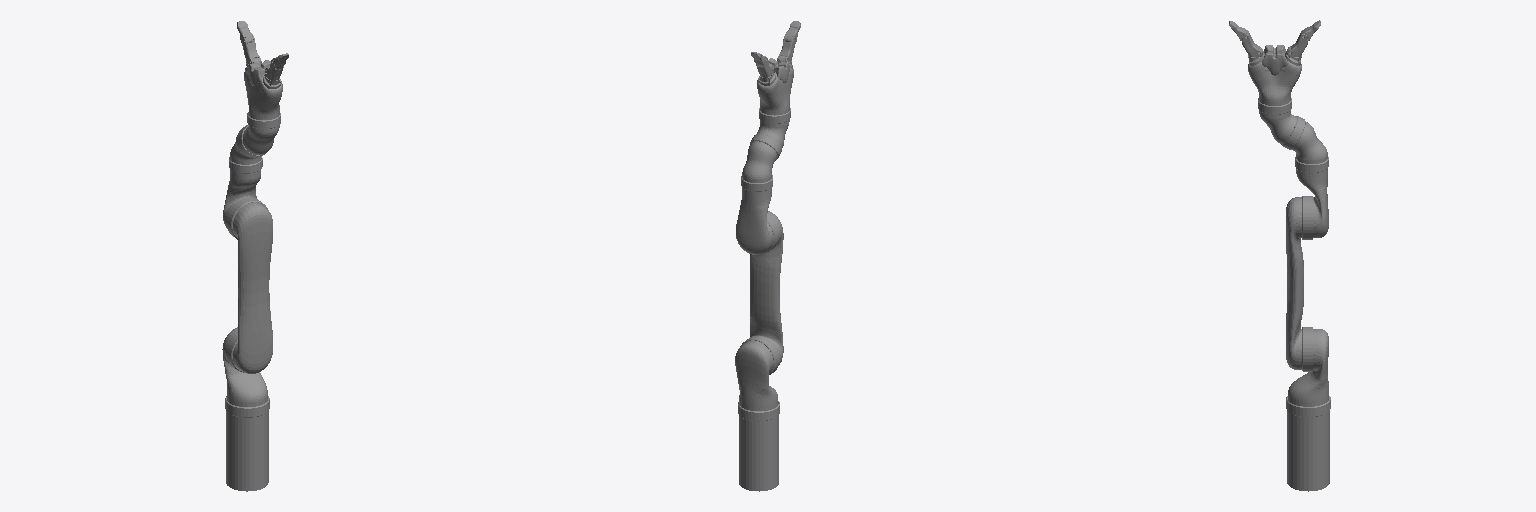
URDF robot description (segbot):
<?xml version="1.0" ?>
<!-- =================================================================================== -->
<!-- |    This document was autogenerated by xacro from segbot_armversion.urdf.xacro   | -->
<!-- |    EDITING THIS FILE BY HAND IS NOT RECOMMENDED                                 | -->
<!-- =================================================================================== -->
<robot name="segbot" xmlns:controller="http://playerstage.sourceforge.net/gazebo/xmlschema/#controller" xmlns:interface="http://playerstage.sourceforge.net/gazebo/xmlschema/#interface" xmlns:sensor="http://playerstage.sourceforge.net/gazebo/xmlschema/#sensor" xmlns:xacro="http://ros.org/wiki/xacro">
  <!-- Included URDF Files -->
 
  
  <material name="light_grey">
    <color rgba="0.7 0.7 0.7 1"/>
  </material>
  <material name="dark_grey">
    <color rgba="0.5 0.5 0.5 1"/>
  </material>
  <material name="black">
    <color rgba="0 0 0 1"/>
  </material>
  <material name="almost_black">
    <color rgba="0.1 0.1 0.1 1"/>
  </material>
  <material name="arm_material">
    <color rgba="0.6 0.6 0.6 1"/>
  </material>
  <material name="original_arm_material">
    <color rgba="0.79216 0.81961 0.93333 1" />
  </material>
  
  
  <!-- Add the segbot base -->
  <link name="base_footprint">
    <visual>
      <origin rpy="0 0 0" xyz="0 0 0"/>
      <geometry>
        <box size="0.001 0.001 0.001"/>
      </geometry>
    </visual>
  </link>

   <!-- kinnect -->
  <joint name="nav_kinect_joint" type="fixed">
    <origin rpy="3.14 3 .75" xyz="0.7 0.7 0.7"/>
    <parent link="base_footprint"/>
    <child link="nav_kinect_link"/>
  </joint>
  <link name="nav_kinect_link">
    <inertial>
      <mass value="0.1"/>
      <origin rpy="0 0 0" xyz="0 0 0"/>
      <inertia ixx="0.01" ixy="0.0" ixz="0.0" iyy="0.01" iyz="0.0" izz="0.01"/>
    </inertial>
    <visual>
      <origin rpy="0 0 0" xyz="0.0 0.012 0"/>
      <geometry>
        <mesh filename="package://segbot_description/meshes/kinect.dae" scale="1 1 1"/>
      </geometry>
    </visual>
    <!-- <collision> -->
    <!--   <origin xyz="0.0 0.012 0" rpy="0 0 0"/> -->
    <!--   <geometry> -->
    <!--     <mesh filename="package://pr2_description/meshes/sensors/kinect_v0/kinect.dae" scale="0.001 0.001 0.001" /> -->
    <!--   </geometry> -->
    <!-- </collision> -->
  </link>
  <gazebo reference="nav_kinect_link">
    <sensor name="nav_kinect_link_sensor" type="depth">
      <always_on>true</always_on>
      <update_rate>20.0</update_rate>
      <camera>
        <horizontal_fov>0.994837673637</horizontal_fov>
        <image>
          <format>R8G8B8</format>
          <width>640</width>
          <height>480</height>
        </image>
        <clip>
          <near>0.01</near>
          <far>5</far>
        </clip>
      </camera>
      <plugin filename="libgazebo_ros_openni_kinect.so" name="nav_kinect_frame_controller">
        <alwaysOn>true</alwaysOn>
        <updateRate>20.0</updateRate>
        <cameraName>nav_kinect</cameraName>
        <imageTopicName>rgb/image_raw</imageTopicName>
        <cameraInfoTopicName>rgb/camera_info</cameraInfoTopicName>
        <depthImageTopicName>depth/image_raw</depthImageTopicName>
        <depthImageCameraInfoTopicName>depth/camera_info</depthImageCameraInfoTopicName>
        <pointCloudTopicName>depth/points</pointCloudTopicName>
        <frameName>nav_kinect_depth_optical_frame</frameName>
        <pointCloudCutoff>0.5</pointCloudCutoff>
        <distortionK1>0.00000001</distortionK1>
        <distortionK2>0.00000001</distortionK2>
        <distortionK3>0.00000001</distortionK3>
        <distortionT1>0.00000001</distortionT1>
        <distortionT2>0.00000001</distortionT2>
      </plugin>
    </sensor>
  </gazebo>
  <joint name="nav_kinect_link_joint1" type="fixed">
    <origin rpy="-1.0 0.0 -1.567" xyz="0 0 0"/>
    <parent link="nav_kinect_link"/>
    <child link="camera_rgb_optical_frame"/>
  </joint>
  <link name="camera_rgb_optical_frame">
    <inertial>
      <mass value="0.001"/>
      <origin rpy="0 0 0" xyz="0 0 0"/>
      <inertia ixx="0.0001" ixy="0" ixz="0" iyy="0.000001" iyz="0" izz="0.0001"/>
    </inertial>
  </link>
  
  <link
    name="Shoulder_Link">
    <inertial>
      <origin
        xyz="9.8364E-07 0.014125 0.070452"
        rpy="0 0 0" />
      <mass
        value="0.76" />
      <inertia
        ixx="0.00044618"
        ixy="-2.0592E-08"
        ixz="-9.2286E-09"
        iyy="0.00047056"
        iyz="-7.4063E-05"
        izz="0.00019269" />
    </inertial>
    <visual>
      <origin
        xyz="0 0 0"
        rpy="0 0 0" />
      <geometry>
        <mesh
          filename="package://jaco_model/meshes/mico_alt/Shoulder_Link.STL" />
      </geometry>
      <material name="arm_material"/>
        
    </visual>
    <collision>
      <origin
        xyz="0 0 0"
        rpy="0 0 0" />
      <geometry>
        <mesh
          filename="package://jaco_model/meshes/mico_alt/Shoulder_Link.STL" />
      </geometry>
    </collision>
  </link>
  
  <joint
    name="Shoulder_Joint"
    type="revolute">
    <origin rpy="3.1416 0 3.1416" xyz="0.0 0 0.18"/>
    <parent
      link="base_footprint" />
    <child
      link="Shoulder_Link" />
    <axis
      xyz="0 0 1" />
    <limit
      lower="-3.14"
      upper="3.14"
      effort="0"
      velocity="0" />
  </joint>
 
  <link
    name="Arm_Link">
    <inertial>
      <origin
        xyz="-1.5264E-05 0.13777 -0.021034"
        rpy="0 0 0" />
      <mass
        value="0.76" />
      <inertia
        ixx="0.0036974"
        ixy="-7.8568E-08"
        ixz="4.7633E-08"
        iyy="0.00022818"
        iyz="-5.7314E-05"
        izz="0.0038268" />
    </inertial>
    <visual>
      <origin
        xyz="0 0 0"
        rpy="0 0 0" />
      <geometry>
        <mesh
          filename="package://jaco_model/meshes/mico_alt/Arm_Link.STL" />
      </geometry>
       <material name="arm_material"/>
    </visual>
    <collision>
      <origin
        xyz="0 0 0"
        rpy="0 0 0" />
      <geometry>
        <mesh
          filename="package://jaco_model/meshes/mico_alt/Arm_Link.STL" />
      </geometry>
    </collision>
  </link>
  <joint
    name="Arm_Joint"
    type="revolute">
    <origin
      xyz="0 -0.00625 -0.12325"
      rpy="-1.5708 4.3794E-14 0" />
    <parent
      link="Shoulder_Link" />
    <child
      link="Arm_Link" />
    <axis
      xyz="0 0 1" />
    <limit
      lower="-2.26"
      upper="2.26"
      effort="0"
      velocity="0" />
  </joint>
  
  <link
    name="Forearm_Link">
    <inertial>
      <origin
        xyz="3.3265E-06 0.035568 -0.023918"
        rpy="0 0 0" />
      <mass
        value="0.4" />
      <inertia
        ixx="0.00029276"
        ixy="2.9256E-08"
        ixz="4.5147E-08"
        iyy="0.00011211"
        iyz="1.2704E-05"
        izz="0.00033531" />
    </inertial>
    <visual>
      <origin
        xyz="0 0 0"
        rpy="0 0 0" />
      <geometry>
        <mesh
          filename="package://jaco_model/meshes/mico_alt/Forearm_Link.STL" />
      </geometry>
       <material name="arm_material"/>
    </visual>
    <collision>
      <origin
        xyz="0 0 0"
        rpy="0 0 0" />
      <geometry>
        <mesh
          filename="package://jaco_model/meshes/mico_alt/Forearm_Link.STL" />
      </geometry>
    </collision>
  </link>
  <joint
    name="Forearm_Joint"
    type="revolute">
    <origin
      xyz="0 0.29 0"
      rpy="3.1416 0 3.1416" />
    <parent
      link="Arm_Link" />
    <child
      link="Forearm_Link" />
    <axis
      xyz="0 0 -1" />
    <limit
      lower="-2.44"
      upper="2.44"
      effort="0"
      velocity="0" />
  </joint>
  <link
    name="Wrist_1_Link">
    <inertial>
      <origin
        xyz="-3.8615E-05 0.0067766 -0.027417"
        rpy="0 0 0" />
      <mass
        value="0.4" />
      <inertia
        ixx="4.9442E-05"
        ixy="-2.5359E-08"
        ixz="2.3947E-08"
        iyy="4.949E-05"
        iyz="-5.6364E-06"
        izz="4.0284E-05" />
    </inertial>
    <visual>
      <origin
        xyz="0 0 0"
        rpy="0 0 0" />
      <geometry>
        <mesh
          filename="package://jaco_model/meshes/mico_alt/Wrist_1_Link.STL" />
      </geometry>
       <material name="arm_material"/>
    </visual>
    <collision>
      <origin
        xyz="0 0 0"
        rpy="0 0 0" />
      <geometry>
        <mesh
          filename="package://jaco_model/meshes/mico_alt/Wrist_1_Link.STL" />
      </geometry>
    </collision>
  </link>
  <joint
    name="Wrist_1_Joint"
    type="revolute">
    <origin
      xyz="0 0.127 -0.01325"
      rpy="1.5708 -2.3904E-31 6.8996E-15" />
    <parent
      link="Forearm_Link" />
    <child
      link="Wrist_1_Link" />
    <axis
      xyz="0 0 -1" />
    <limit
      lower="-3.14"
      upper="3.14"
      effort="0"
      velocity="0" />
  </joint>
  
  <link
    name="Wrist_2_Link">
    <inertial>
      <origin
        xyz="3.8855E-05 -0.006776 -0.027417"
        rpy="0 0 0" />
      <mass
        value="0.4" />
      <inertia
        ixx="4.9444E-05"
        ixy="-2.4795E-08"
        ixz="-2.4072E-08"
        iyy="4.949E-05"
        iyz="5.635E-06"
        izz="4.0281E-05" />
    </inertial>
    <visual>
      <origin
        xyz="0 0 0"
        rpy="0 0 0" />
      <geometry>
        <mesh
          filename="package://jaco_model/meshes/mico_alt/Wrist_2_Link.STL" />
      </geometry>
       <material name="arm_material"/>
    </visual>
    <collision>
      <origin
        xyz="0 0 0"
        rpy="0 0 0" />
      <geometry>
        <mesh
          filename="package://jaco_model/meshes/mico_alt/Wrist_2_Link.STL" />
      </geometry>
    </collision>
  </link>
  <joint
    name="Wrist_2_Joint"
    type="revolute">
    <origin
      xyz="0 0.040276 -0.062261"
      rpy="1.0472 -1.1202E-14 -7.4515E-15" />
    <parent
      link="Wrist_1_Link" />
    <child
      link="Wrist_2_Link" />
    <axis
      xyz="0 0 -1" />
    <limit
      lower="-3.14"
      upper="3.14"
      effort="0"
      velocity="0" />
  </joint>
  <link
    name="Hand_Link">
    <inertial>
      <origin
        xyz="-0.0014195 7.8354E-06 -0.066076"
        rpy="0 0 0" />
      <mass
        value="0.4" />
      <inertia
        ixx="0.00025595"
        ixy="-1.199E-08"
        ixz="4.5804E-06"
        iyy="0.00020193"
        iyz="5.0676E-08"
        izz="0.00013393" />
    </inertial>
    <visual>
      <origin
        xyz="0 0 0"
        rpy="0 0 0" />
      <geometry>
        <mesh
          filename="package://jaco_model/meshes/mico_alt/Hand_Link.STL" />
      </geometry>
       <material name="arm_material"/>
    </visual>
    <collision>
      <origin
        xyz="0 0 0"
        rpy="0 0 0" />
      <geometry>
        <mesh
          filename="package://jaco_model/meshes/mico_alt/Hand_Link.STL" />
      </geometry>
    </collision>
  </link>
  <joint
    name="Hand_Joint"
    type="revolute">
    <origin
      xyz="0 -0.040276 -0.062261"
      rpy="-1.0472 4.7648E-15 6.6501E-15" />
    <parent
      link="Wrist_2_Link" />
    <child
      link="Hand_Link" />
    <axis
      xyz="0 0 1" />
    <limit
      lower="-3.14"
      upper="3.14"
      effort="0"
      velocity="0" />
  </joint>
  <link
    name="Finger_1_Proximal_Link">
    <inertial>
      <origin
        xyz="0.0172616572113394 0.0105538611465319 -0.0112506191776746"
        rpy="0 0 0" />
      <mass
        value="0.0106365214895162" />
      <inertia
        ixx="2.41074761126296E-06"
        ixy="6.22421954028106E-07"
        ixz="-2.46521467551818E-11"
        iyy="1.51566092378154E-06"
        iyz="4.24681773393991E-11"
        izz="2.54988112393165E-06" />
    </inertial>
    <visual>
      <origin
        xyz="0 0 0"
        rpy="0 0 0" />
      <geometry>
        <mesh
          filename="package://jaco_model/meshes/mico_alt/Finger_1_Proximal_Link.STL" />
      </geometry>
      <material name="arm_material"/>
    </visual>
    <collision>
      <origin
        xyz="0 0 0"
        rpy="0 0 0" />
      <geometry>
        <mesh
          filename="package://jaco_model/meshes/mico_alt/Finger_1_Proximal_Link.STL" />
      </geometry>
    </collision>
  </link>
  <joint
    name="Finger_1_Proximal_Joint"
    type="revolute">
    <origin
      xyz="-0.013746 0.030948 -0.11107"
      rpy="-1.5708 3.3457E-16 1.5708" />
    <parent
      link="Hand_Link" />
    <child
      link="Finger_1_Proximal_Link" />
    <axis
      xyz="0 0 1" />
    <limit
      lower="0"
      upper="0.78"
      effort="0"
      velocity="0" />
  </joint>
  <link
    name="Finger_1_Distal_Link">
    <inertial>
      <origin
        xyz="0.0126210373400246 0.00643480436760779 -0.0112500681940836"
        rpy="0 0 0" />
      <mass
        value="0.0121939442358921" />
      <inertia
        ixx="1.65156773375087E-06"
        ixy="9.54167272729886E-07"
        ixz="-1.00860347569415E-11"
        iyy="1.49606028082548E-06"
        iyz="-1.22490314303896E-11"
        izz="2.37956623675183E-06" />
    </inertial>
    <visual>
      <origin
        xyz="0 0 0"
        rpy="0 0 0" />
      <geometry>
        <mesh
          filename="package://jaco_model/meshes/mico_alt/Finger_1_Distal_Link.STL" />
      </geometry>
       <material name="arm_material"/>
    </visual>
    <collision>
      <origin
        xyz="0 0 0"
        rpy="0 0 0" />
      <geometry>
        <mesh
          filename="package://jaco_model/meshes/mico_alt/Finger_1_Distal_Link.STL" />
      </geometry>
    </collision>
  </link>
  <joint
    name="Finger_1_Distal_Joint"
    type="revolute">
    <origin
      xyz="0.026055 0.035582 0"
      rpy="-4.0279E-17 6.1154E-17 -4.7179E-31" />
    <parent
      link="Finger_1_Proximal_Link" />
    <child
      link="Finger_1_Distal_Link" />
    <axis
      xyz="0 0 1" />
    <limit
      lower="0"
      upper="0.78"
      effort="0"
      velocity="0" />
  </joint>
  <link
    name="Finger_2_Proximal_Link">
    <inertial>
      <origin
        xyz="-0.0172616584345737 -0.0105538552511416 0.0112493808527515"
        rpy="0 0 0" />
      <mass
        value="0.0106365251828778" />
      <inertia
        ixx="2.41074854318984E-06"
        ixy="6.22421733493864E-07"
        ixz="2.47092382285307E-11"
        iyy="1.51566070025321E-06"
        iyz="-4.24941314480507E-11"
        izz="2.54988230315087E-06" />
    </inertial>
    <visual>
      <origin
        xyz="0 0 0"
        rpy="0 0 0" />
      <geometry>
        <mesh
          filename="package://jaco_model/meshes/mico_alt/Finger_2_Proximal_Link.STL" />
      </geometry>
      <material name="arm_material"/>
    </visual>
    <collision>
      <origin
        xyz="0 0 0"
        rpy="0 0 0" />
      <geometry>
        <mesh
          filename="package://jaco_model/meshes/mico_alt/Finger_2_Proximal_Link.STL" />
      </geometry>
    </collision>
  </link>
  <joint
    name="Finger_2_Proximal_Joint"
    type="revolute">
    <origin
      xyz="-0.013746 -0.030948 -0.11107"
      rpy="1.5708 3.3457E-16 1.5708" />
    <parent
      link="Hand_Link" />
    <child
      link="Finger_2_Proximal_Link" />
    <axis
      xyz="0 0 1" />
    <limit
      lower="0"
      upper="0.78"
      effort="0"
      velocity="0" />
  </joint>
  <link
    name="Finger_2_Distal_Link">
    <inertial>
      <origin
        xyz="-0.0126210373425155 -0.00643480437565225 0.0112499318045061"
        rpy="0 0 0" />
      <mass
        value="0.012193944229752" />
      <inertia
        ixx="1.65156773202737E-06"
        ixy="9.54167272215506E-07"
        ixz="1.00859417239942E-11"
        iyy="1.49606028060199E-06"
        iyz="1.22487380227665E-11"
        izz="2.37956623494218E-06" />
    </inertial>
    <visual>
      <origin
        xyz="0 0 0"
        rpy="0 0 0" />
      <geometry>
        <mesh
          filename="package://jaco_model/meshes/mico_alt/Finger_2_Distal_Link.STL" />
      </geometry>
      <material name="arm_material"/>
    </visual>
    <collision>
      <origin
        xyz="0 0 0"
        rpy="0 0 0" />
      <geometry>
        <mesh
          filename="package://jaco_model/meshes/mico_alt/Finger_2_Distal_Link.STL" />
      </geometry>
    </collision>
  </link>
  <joint
    name="Finger_2_Distal_Joint"
    type="revolute">
    <origin
      xyz="-0.026055 -0.035582 0"
      rpy="4.8081E-17 -4.6577E-17 -5.6023E-31" />
    <parent
      link="Finger_2_Proximal_Link" />
    <child
      link="Finger_2_Distal_Link" />
    <axis
      xyz="0 0 1" />
    <limit
      lower="0"
      upper="0.78"
      effort="0"
      velocity="0" />
  </joint>
  
  <joint name="arm_base_cyl" type="fixed">
    <origin rpy="0 0 0" xyz="0.0 0.0 0.09"/>
    <parent link="base_footprint"/>
    <child link="arm_base_cyl_link"/>
  </joint>
  <link name="arm_base_cyl_link">
    <inertial>
      <mass value="0.1"/>
      <origin rpy="0 0 0" xyz="0 0 0"/>
      <inertia ixx="0.01" ixy="0.0" ixz="0.0" iyy="0.01" iyz="0.0" izz="0.01"/>
    </inertial>
    <visual>
      <origin rpy="0 0 0" xyz="0 0 0.009525"/>
      <geometry>
        <cylinder length="0.18" radius="0.0425"/>
      </geometry>
      <material name="arm_material"/>
    </visual>
    <collision>
      <origin rpy="0 0 0" xyz="0 0 0.009525"/>
      <geometry>
        <cylinder length="0.18" radius="0.02"/>
      </geometry>
    </collision>
  </link>
  <gazebo reference="arm_base_cyl_link">
    <material>Gazebo/Grey</material>
    <mu1 value="100.0"/>
    <mu2 value="100.0"/>
    <kp value="1000000.0"/>
    <kd value="1.0"/>
  </gazebo>
  
  
</robot>

--- Render facts (derived) ---
Views: 3 orthographic renders of the robot side by side, from view 1: azimuth 30°, elevation 25°; view 2: azimuth 150°, elevation 25°; view 3: azimuth 270°, elevation 25°.
Model segbot with 14 links and 13 joints (10 revolute, 3 fixed), rooted at base_footprint, posed every joint at zero.
Links seen in each view (by area): view 1: Arm_Link, arm_base_cyl_link, Hand_Link, Shoulder_Link, Forearm_Link, Wrist_2_Link, Wrist_1_Link; view 2: Arm_Link, arm_base_cyl_link, Shoulder_Link, Forearm_Link, Hand_Link, Wrist_1_Link, Wrist_2_Link; view 3: Arm_Link, arm_base_cyl_link, Hand_Link, Shoulder_Link, Forearm_Link, Wrist_1_Link, Wrist_2_Link.
Boxes of the visible links, bbox=[...] form: Arm_Link: bbox=[226, 202, 272, 373]; arm_base_cyl_link: bbox=[226, 411, 268, 491]; Hand_Link: bbox=[244, 57, 282, 128]; Shoulder_Link: bbox=[222, 327, 269, 417]; Forearm_Link: bbox=[223, 169, 267, 239]; Wrist_2_Link: bbox=[238, 125, 279, 157]; Wrist_1_Link: bbox=[229, 130, 262, 173]; Arm_Link: bbox=[740, 211, 783, 374]; arm_base_cyl_link: bbox=[739, 415, 778, 491]; Shoulder_Link: bbox=[735, 340, 779, 421]; Forearm_Link: bbox=[736, 187, 779, 254]; Hand_Link: bbox=[757, 56, 793, 123]; Wrist_1_Link: bbox=[741, 141, 777, 191]; Wrist_2_Link: bbox=[750, 120, 789, 159]; Arm_Link: bbox=[1286, 197, 1312, 371]; arm_base_cyl_link: bbox=[1287, 411, 1329, 491]; Hand_Link: bbox=[1248, 45, 1301, 114]; Shoulder_Link: bbox=[1286, 329, 1330, 416]; Forearm_Link: bbox=[1296, 169, 1328, 239]; Wrist_1_Link: bbox=[1291, 122, 1328, 172]; Wrist_2_Link: bbox=[1259, 110, 1305, 149].
Size in the robot's own frame: 0.0892 by 0.2031 by 1.02 metres.
10 mesh visuals loaded from 11 distinct referenced files (10 binary STL); not drawn: 1 (reference not matched to a file when rendering).
